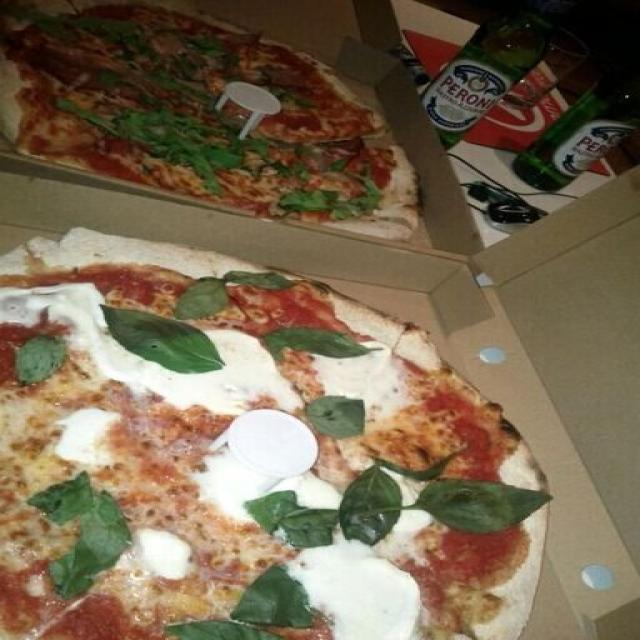Basil: (104, 300, 225, 372), (41, 486, 123, 584), (415, 481, 547, 528), (230, 570, 316, 624), (343, 467, 396, 543), (276, 328, 388, 362), (263, 492, 337, 540), (309, 388, 366, 436), (19, 327, 61, 381), (169, 621, 278, 640), (187, 282, 230, 317)
Cheese: (311, 549, 423, 640), (160, 375, 299, 414), (13, 292, 109, 328), (64, 405, 112, 470), (134, 530, 195, 580), (202, 456, 242, 520), (222, 330, 276, 372)
Pizza: (0, 231, 550, 640), (0, 0, 416, 241)
Rucola: (63, 103, 241, 169), (15, 0, 139, 40), (290, 185, 374, 220), (258, 138, 322, 176), (148, 53, 206, 94)
